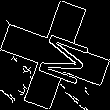M_W: (23, 25, 87, 85)
